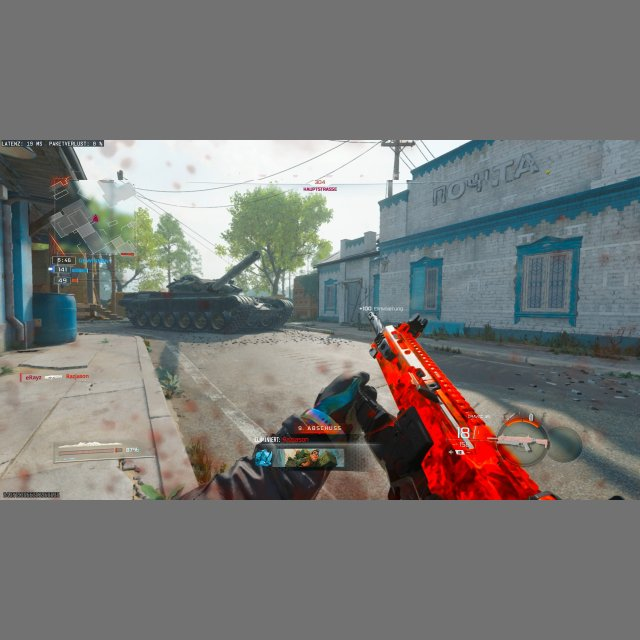player: (369, 314, 381, 333)
